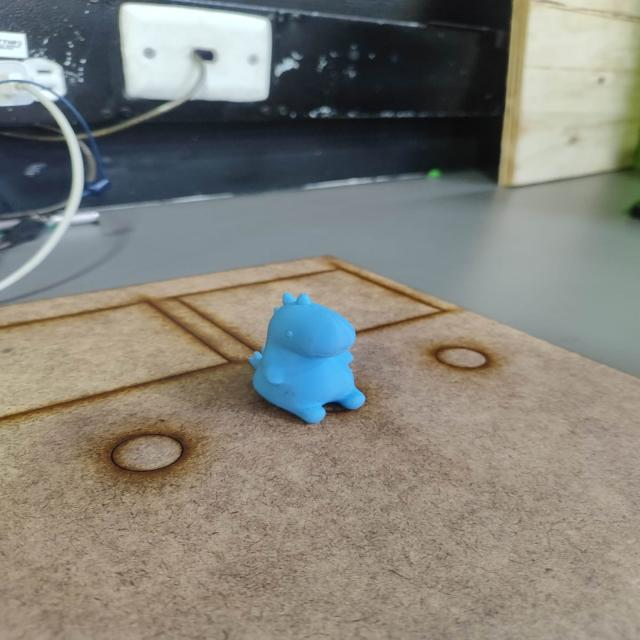DINO: (218, 290, 396, 434)
